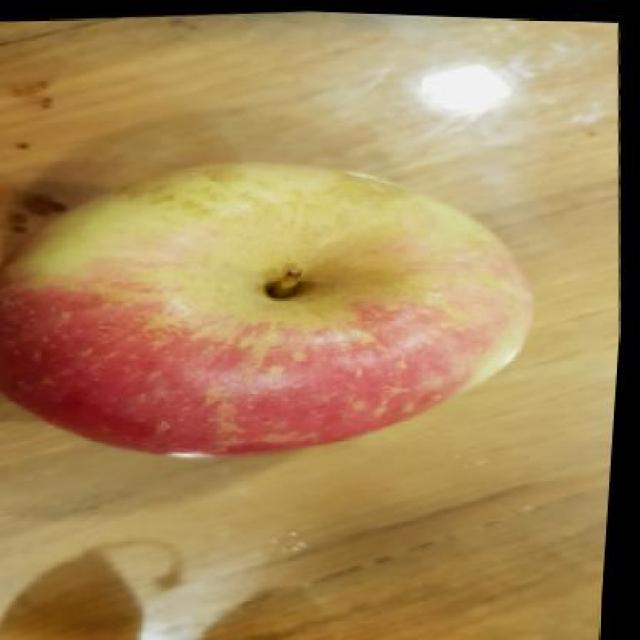Fresh Apple: (8, 171, 520, 456)
